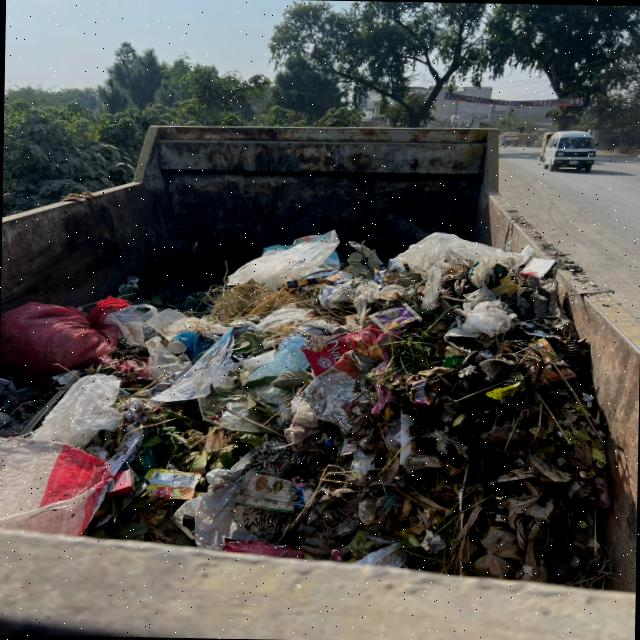garbage: (0, 219, 609, 591)
